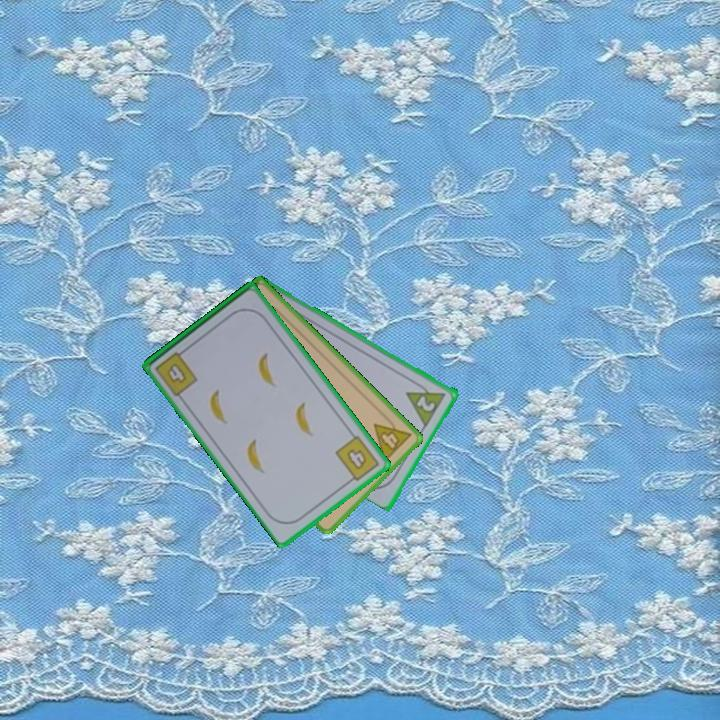2p: (413, 392, 439, 415)
4b: (332, 432, 383, 487), (151, 345, 201, 399)
4p: (370, 410, 414, 465)
